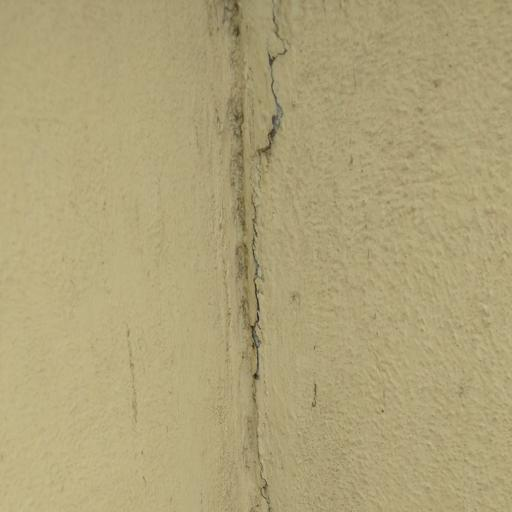minor_crack: (206, 10, 301, 512)
